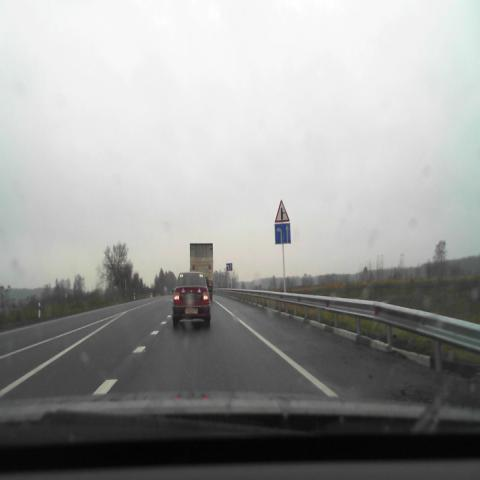2_3_2: (275, 199, 289, 222)
5_15_2_2: (275, 223, 291, 244)
